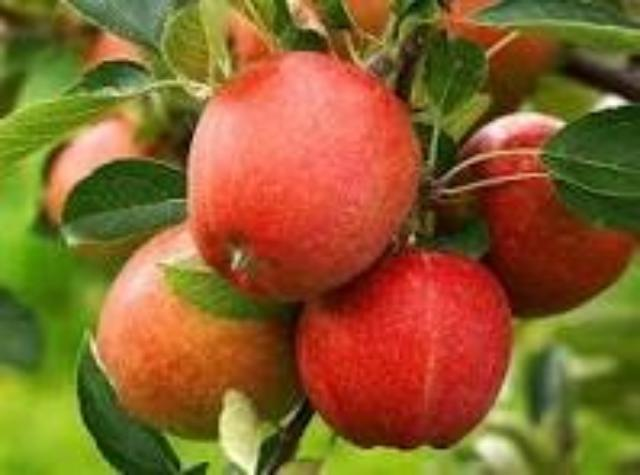Apple: (189, 53, 419, 302), (96, 223, 293, 438), (297, 255, 510, 448), (477, 179, 633, 316), (45, 120, 146, 224)
